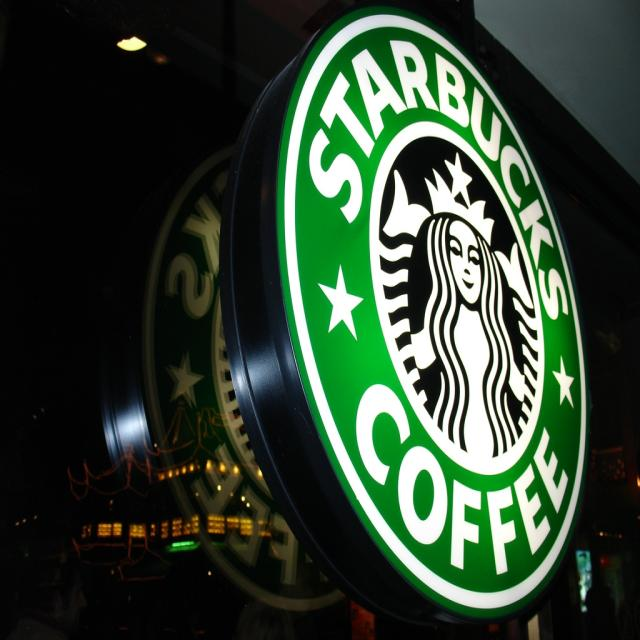starbucks: (276, 6, 591, 621)
